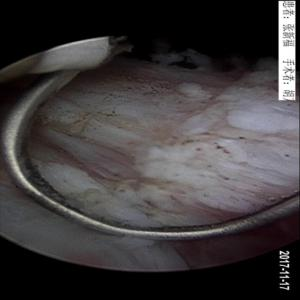film: (61, 62, 282, 221)
